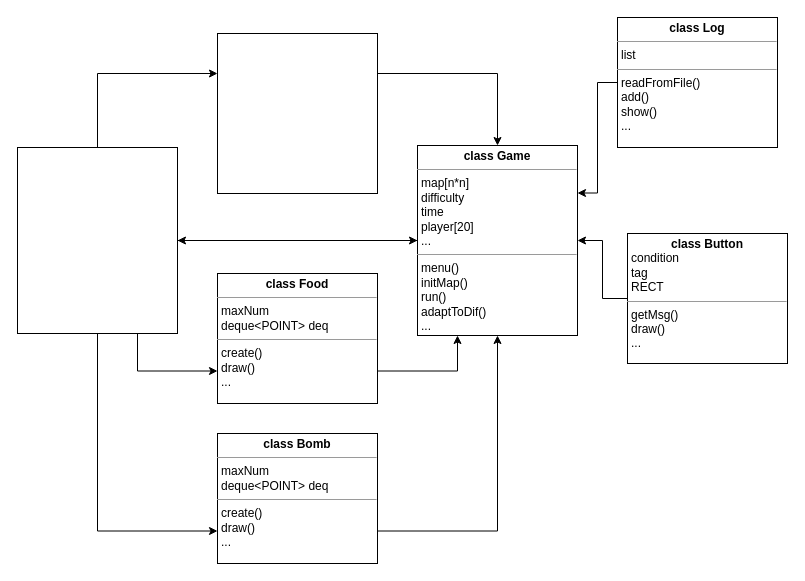
Some shapes in this 805 by 581 pixel diagram are drawn without their labels. The centre of each missing label's shape, as x and y in pixels:
class Snake list<POINT> body life len ... set() move() eatFood() ...: point 97,240
class SP x,y time type create() draw() flash() ...: point 297,113
